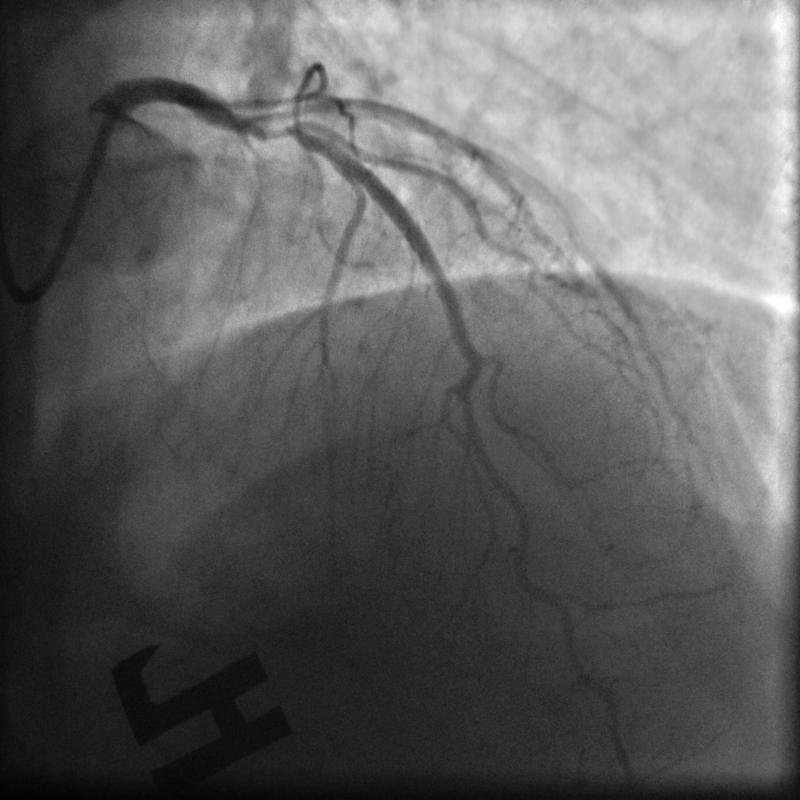Stenosis: (234, 106, 311, 147)
